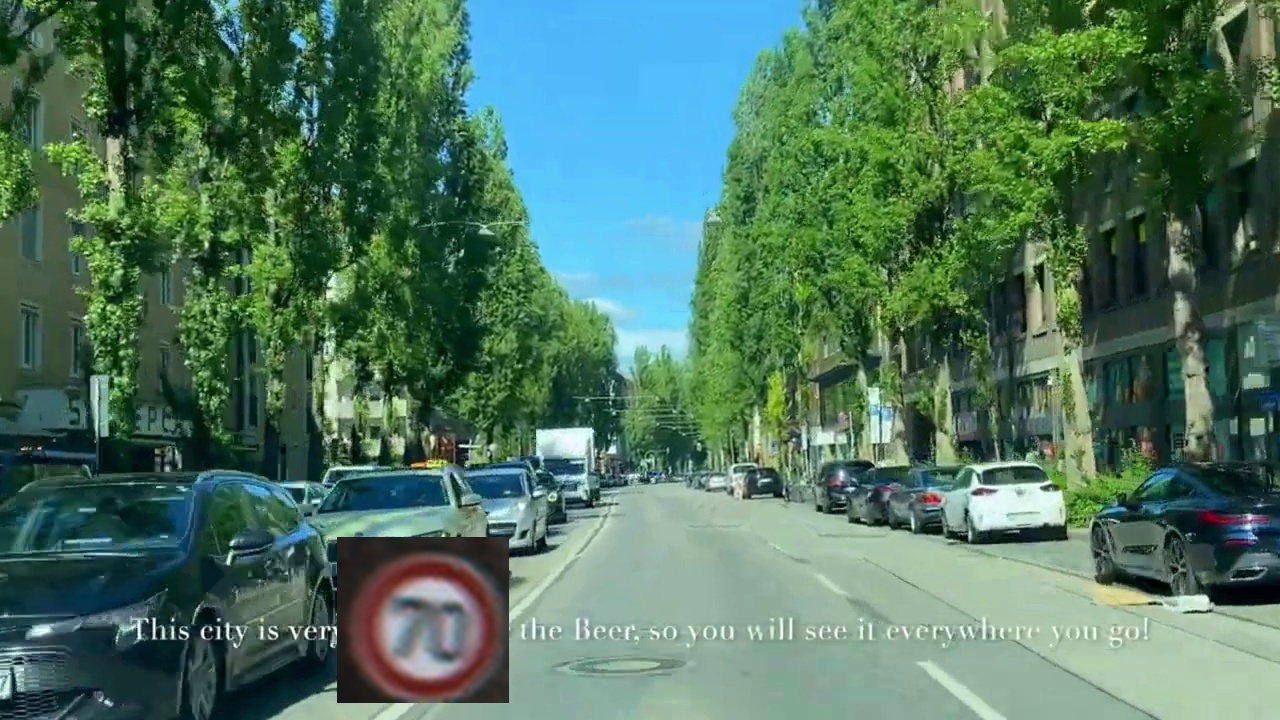Speed 70: (337, 537, 509, 703)
